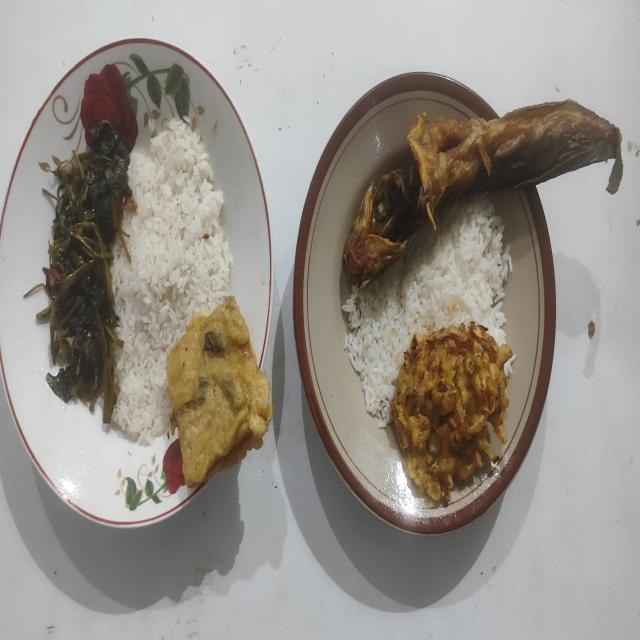nasi_putih: (111, 118, 232, 444), (342, 194, 512, 426)
tumis_kangkung: (37, 121, 132, 423)
